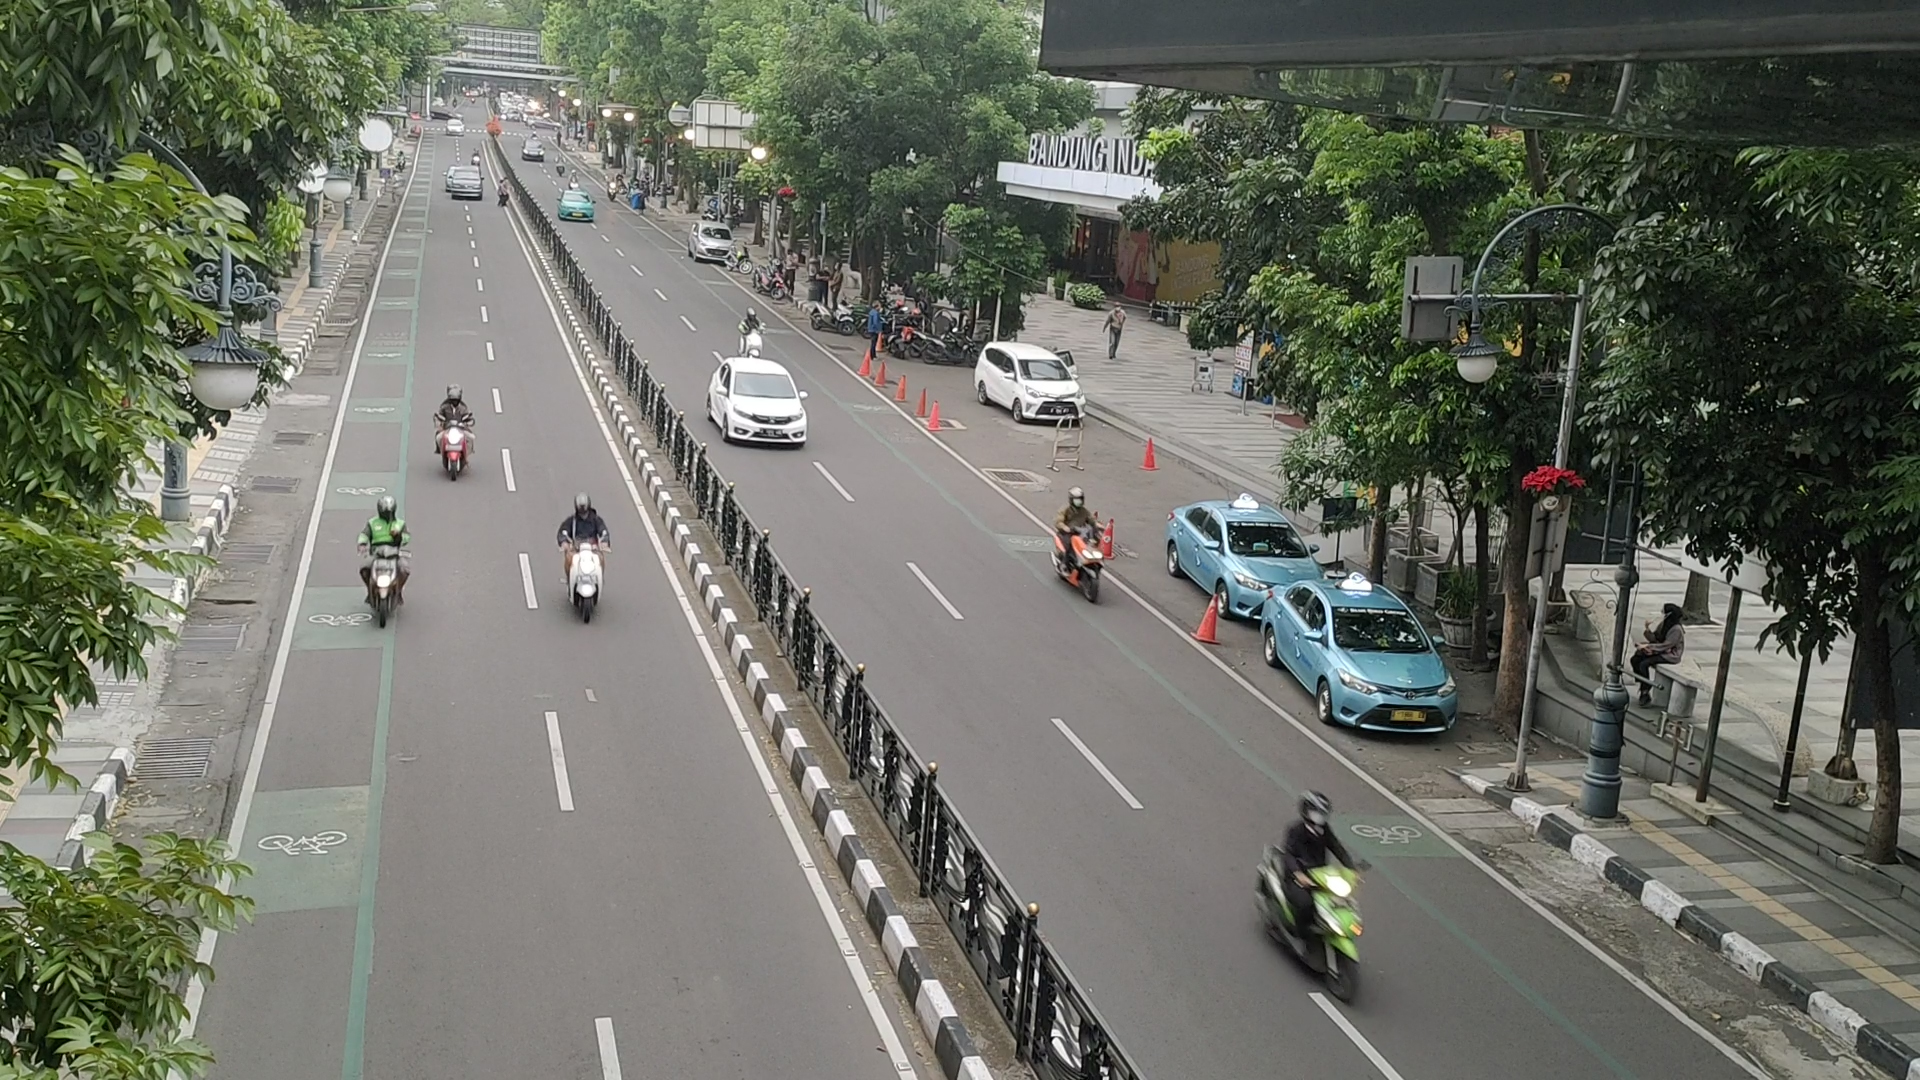mobil: (1311, 603, 1460, 738), (717, 364, 807, 456), (1009, 349, 1087, 429)
motor: (1247, 785, 1377, 1010), (1038, 471, 1125, 618), (351, 495, 414, 637), (555, 491, 615, 626), (430, 377, 477, 492)
